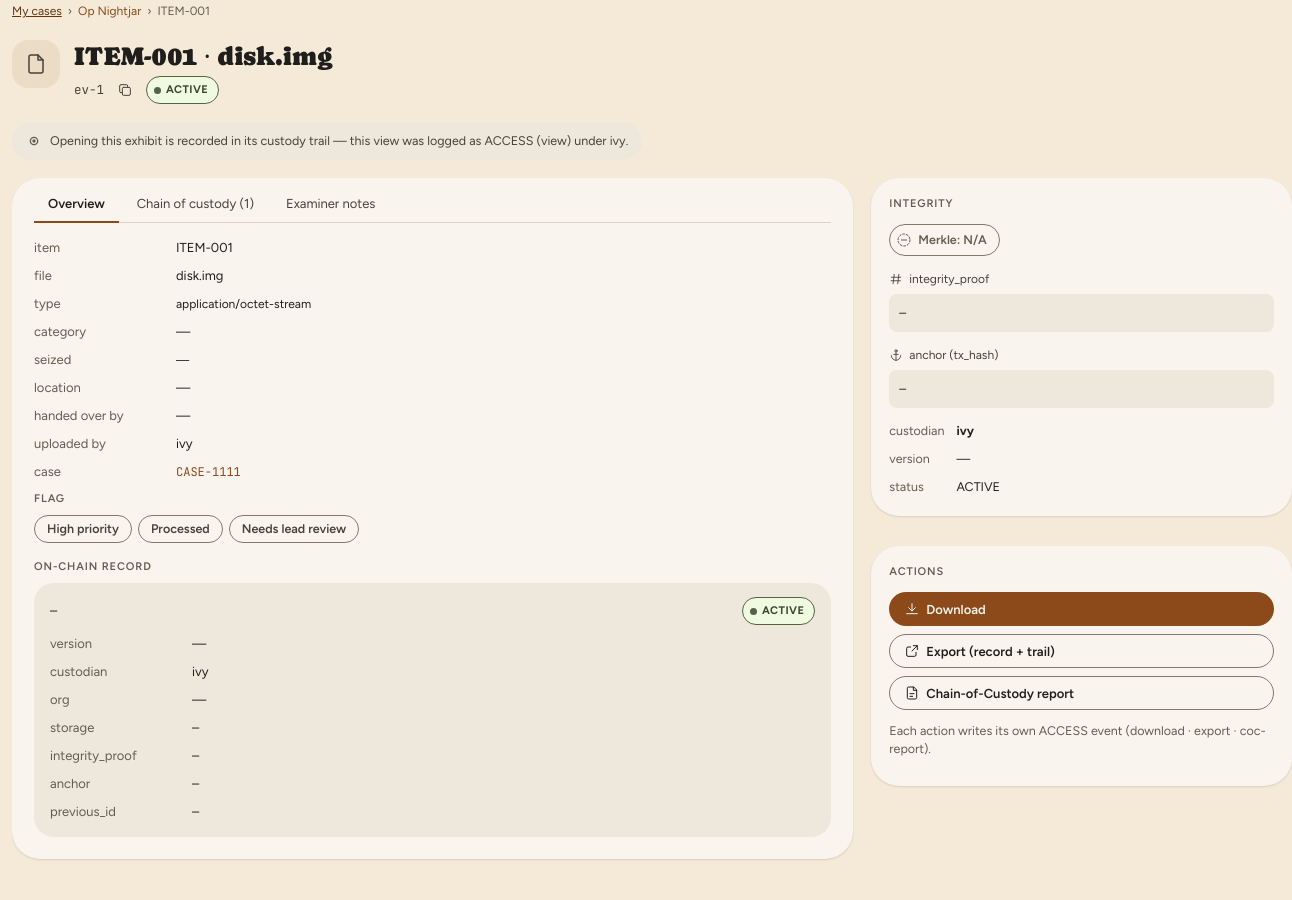
Test: EvidenceDetailPage — Merkle verify follows the per-event batched flag › stays N/A after a direct write; a batched write enables Verify latest
This screenshot has width=1292, height=900.
Click the tab "Chain of custody (1)".
click(195, 204)  # box [123,184,268,223]
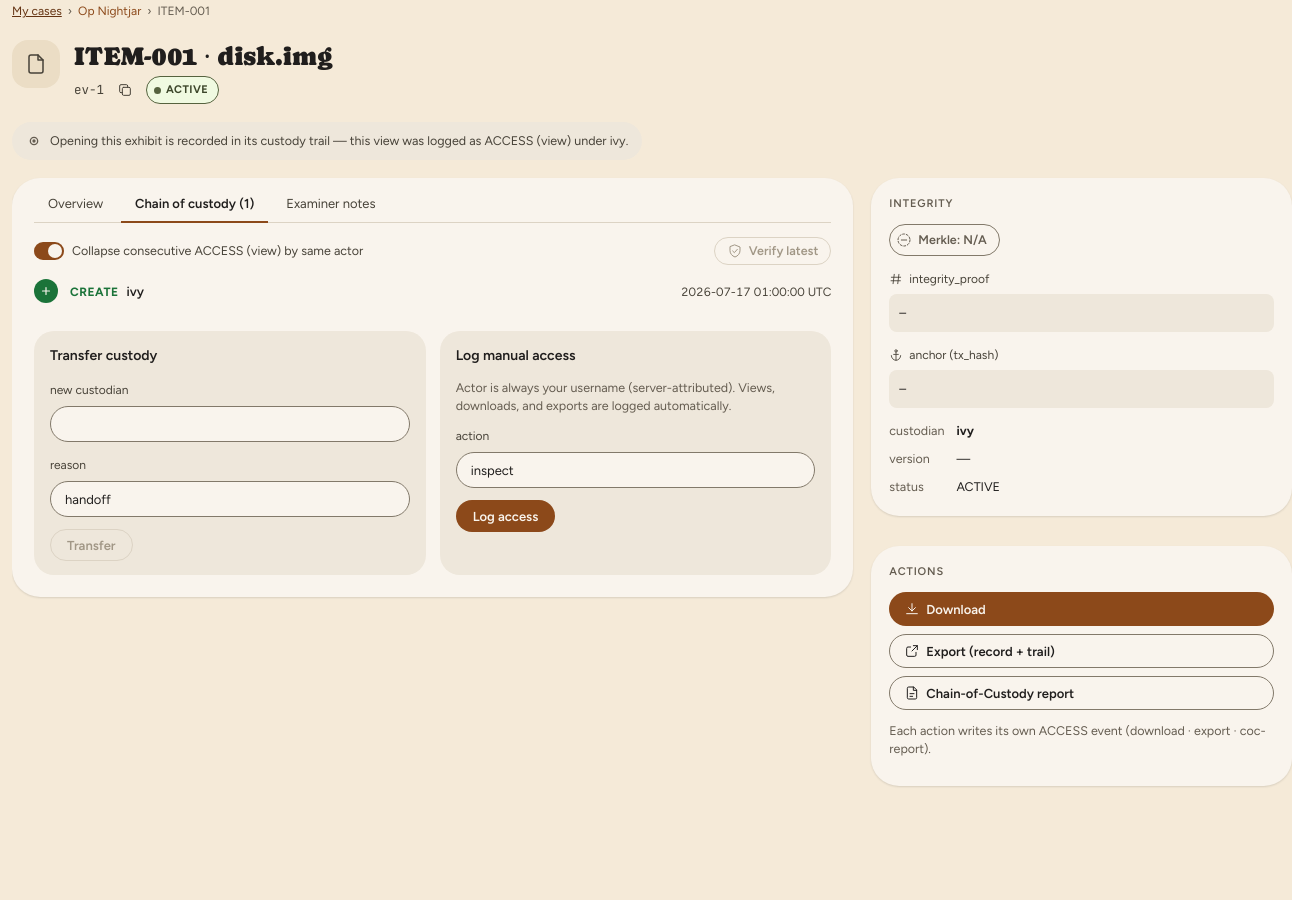
Click the button "Log access".
click(506, 516)  # box [456,500,555,532]
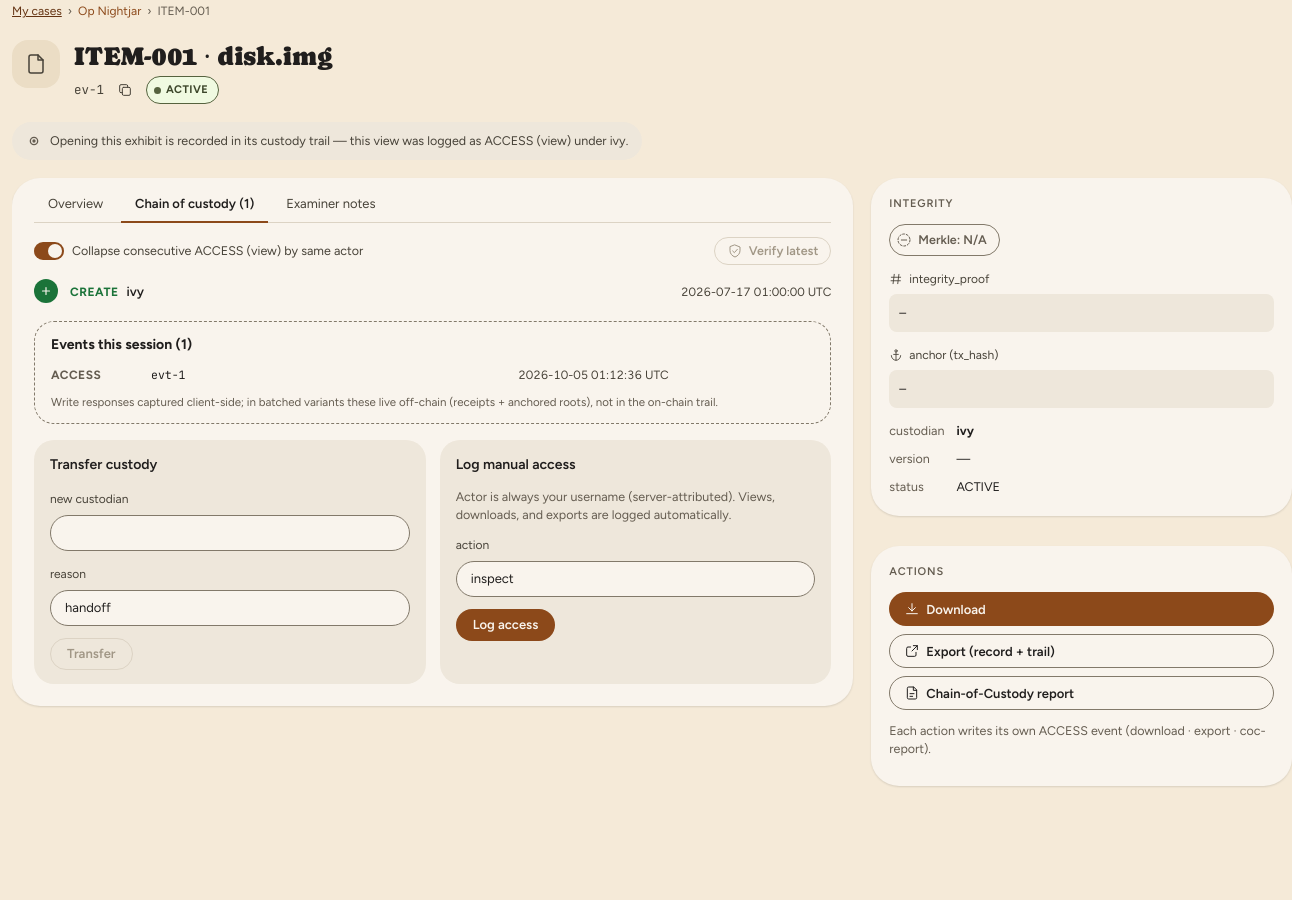
expect the text "Merkle: N/A" is shown: met, box [889,224,1000,256]
expect the button "Verify latest" is disabled: met, box [714,237,831,265]
expect the text "evt-1" is shown: met, box [151,367,186,382]
Click the button "Log access".
click(506, 625)  # box [456,609,555,641]
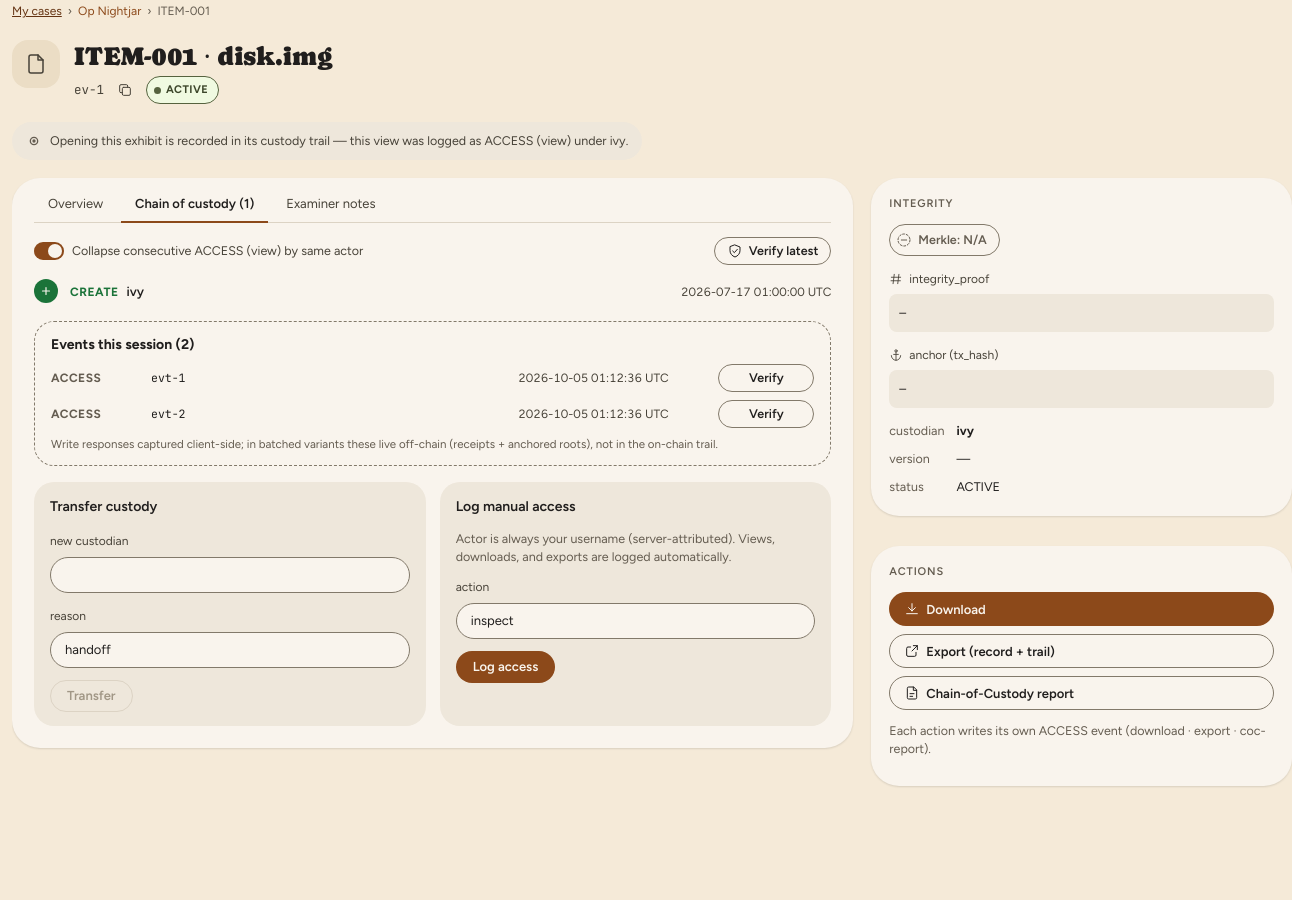
expect the button "Verify latest" is enabled: met
Click the button "Verify latest".
click(773, 251)  # box [714,237,831,265]
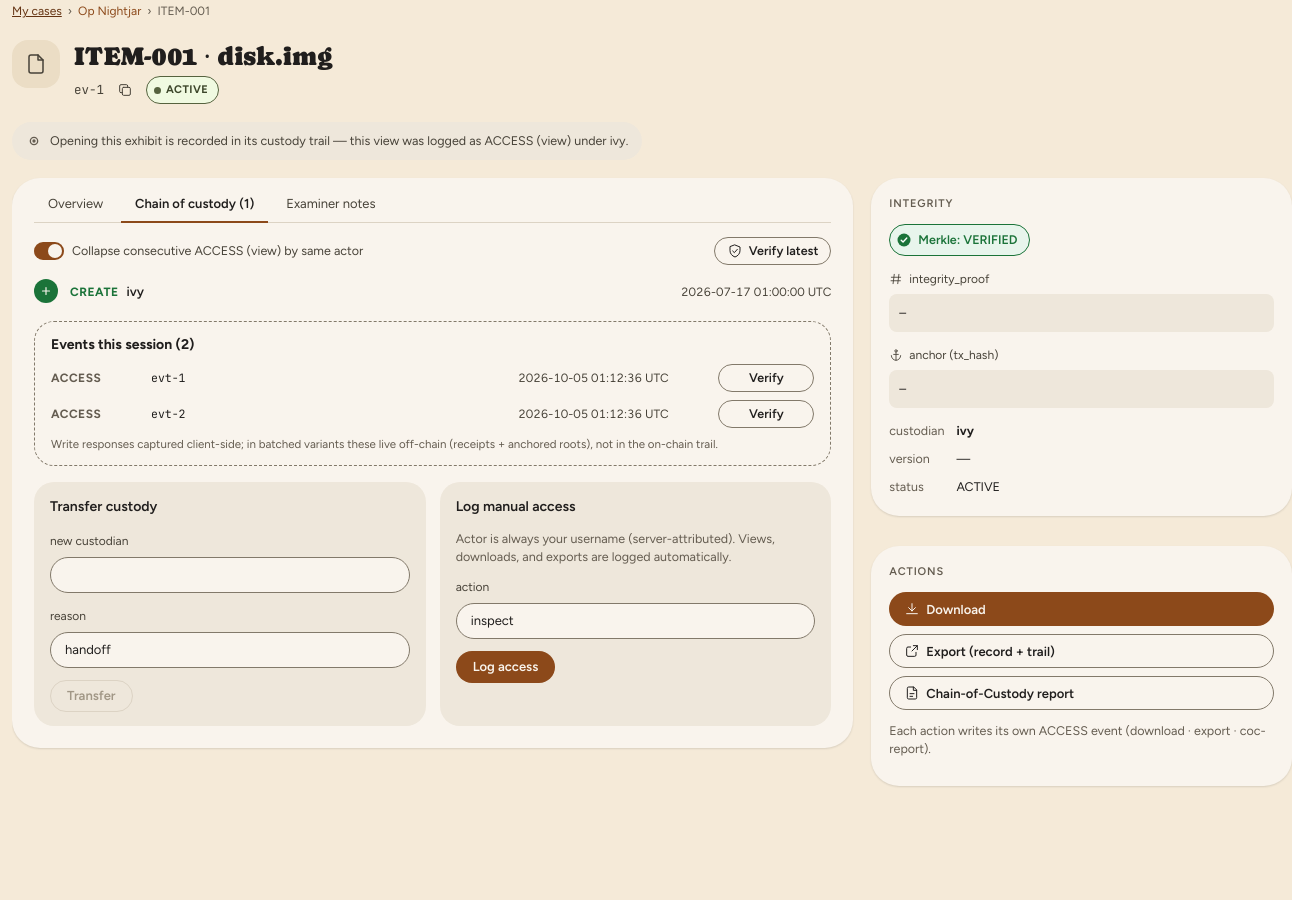
expect the text "Merkle: VERIFIED" is shown: met, box [889,224,1030,256]
